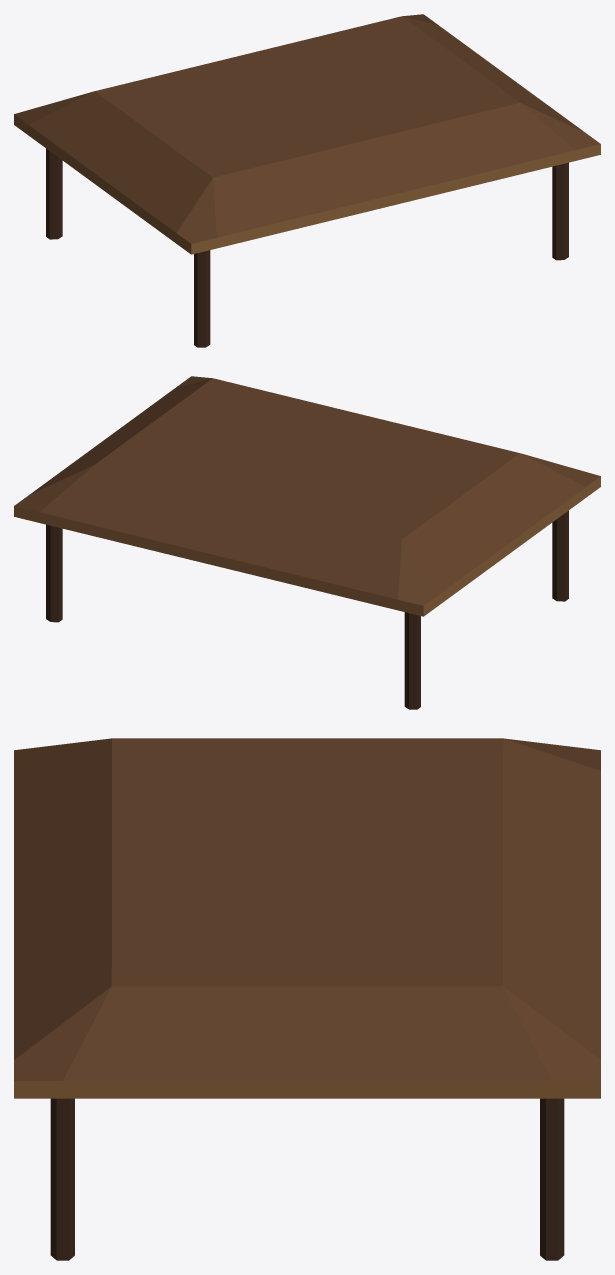
Rendered from Gazebo de madera.fbx.
3 renders of one model, top to bottom at view 1: azimuth 30°, elevation 25°; view 2: azimuth 150°, elevation 25°; view 3: azimuth 270°, elevation 25°, orthographic. The views are drawn at different scales.
Visible parts, largest first — view 1: Cube.008; view 2: Cube.008; view 3: Cube.008.
Boxes of the visible parts, x1=… form: Cube.008: x1=14, y1=14, x2=600, y2=347; Cube.008: x1=14, y1=376, x2=600, y2=709; Cube.008: x1=14, y1=738, x2=600, y2=1260.
Bounding box in the file's own units: 1600 × 560 × 1200.
